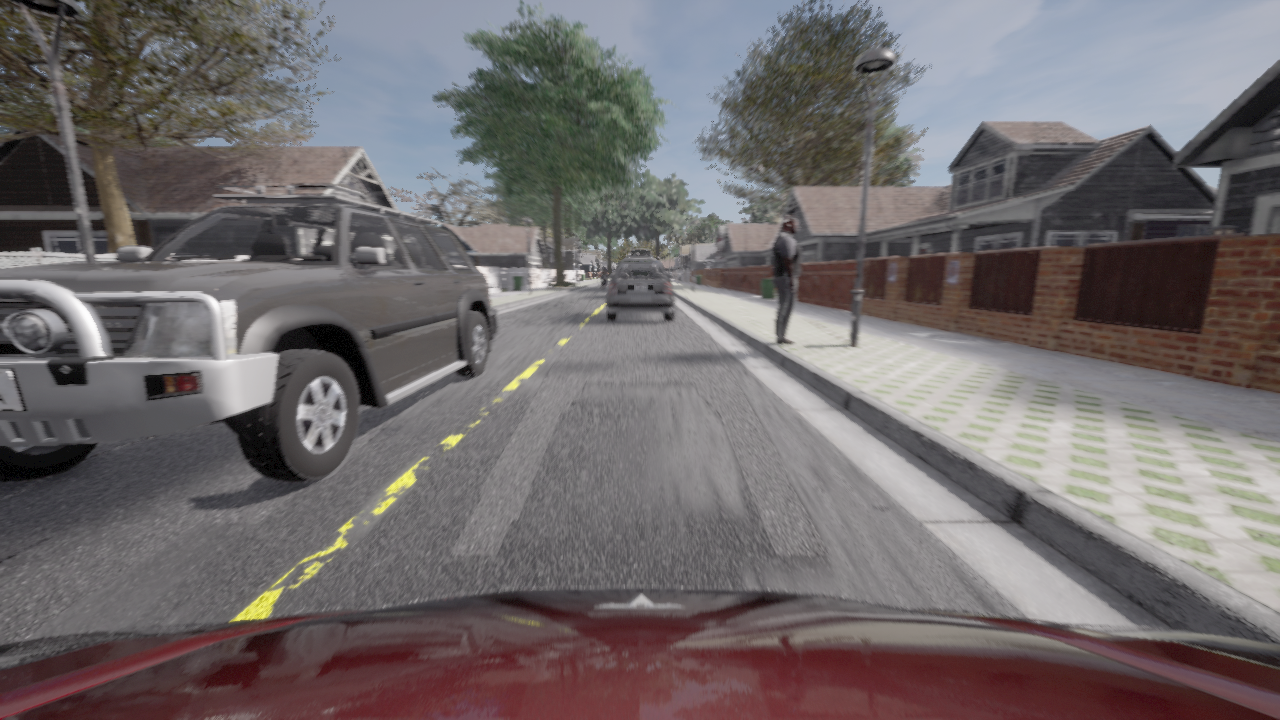cyclist: (0, 588, 1279, 719), (0, 185, 497, 482), (606, 260, 673, 321), (628, 249, 651, 257), (598, 274, 606, 288), (623, 257, 655, 260)
pedestrian: (771, 215, 801, 344)
